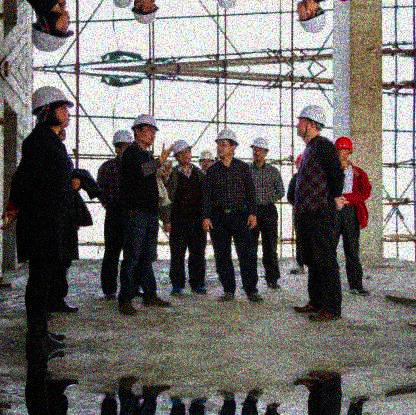helmet: (31, 7, 74, 53), (31, 86, 74, 128), (296, 2, 327, 34), (296, 105, 327, 137), (131, 114, 159, 144), (214, 129, 239, 157), (131, 1, 159, 24), (113, 130, 133, 157), (334, 136, 353, 162), (249, 137, 269, 161), (173, 140, 192, 163), (199, 150, 215, 171)
